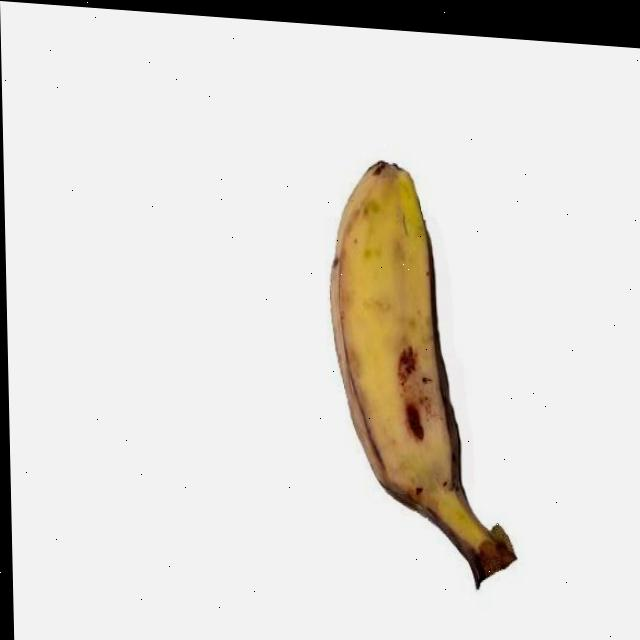banana: (322, 152, 471, 516)
